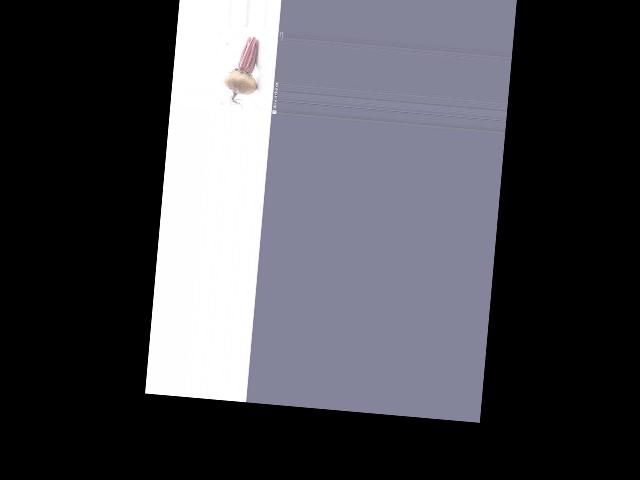beet: (222, 34, 261, 110)
